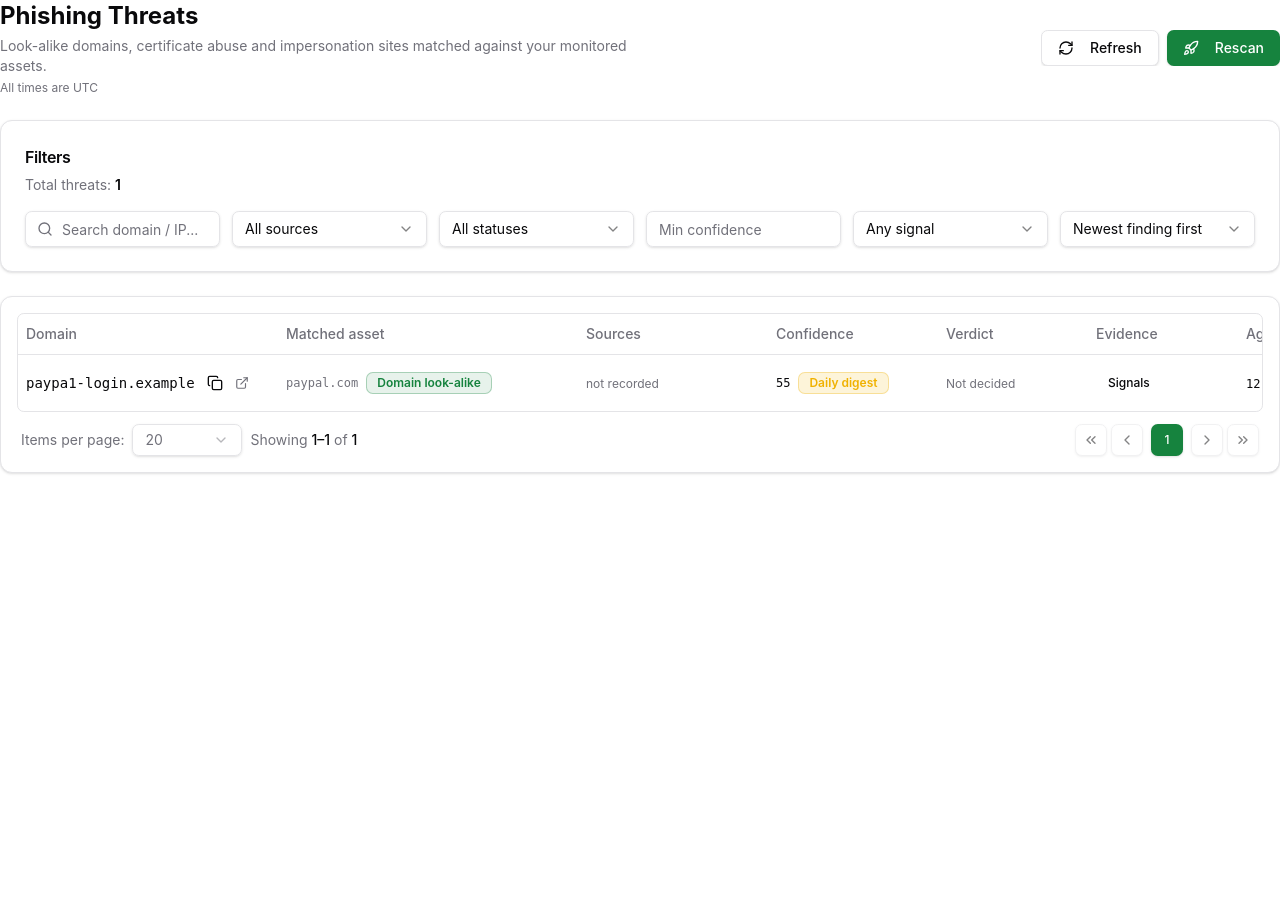
Test: PhishingPage row disclosure (W0.5) › lists the sources that reported the candidate as its signals
The width and height of the screenshot is (1280, 900).
Click the button "Signals" at [1129, 382], box x1=1096 y1=366 x2=1162 y2=398
(page scrolled)
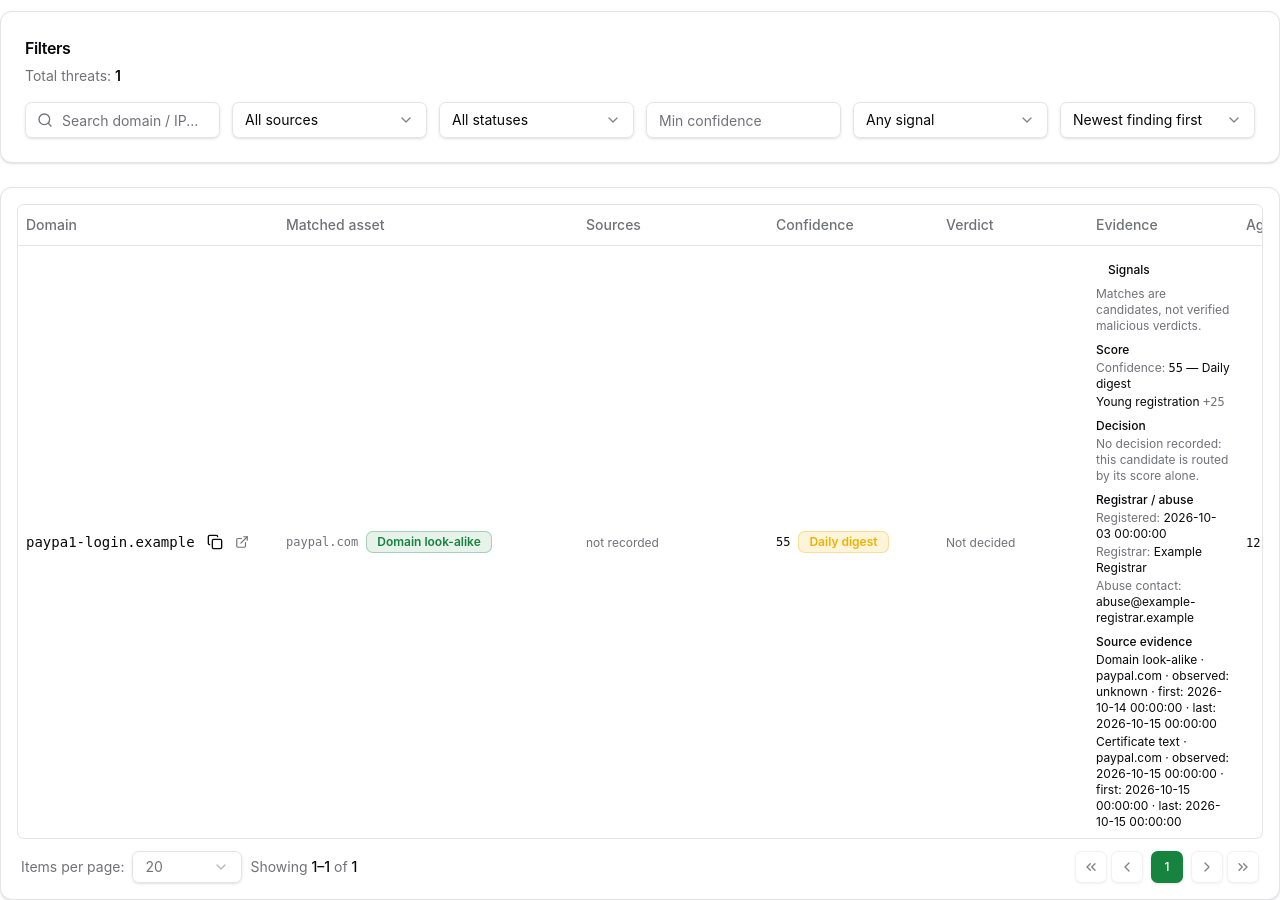
Result: the text "Domain look-alike · paypal.com" is shown at x1=1096 y1=652 x2=1230 y2=732
Result: the text "Certificate text · paypal.com" is shown at x1=1096 y1=734 x2=1230 y2=830
